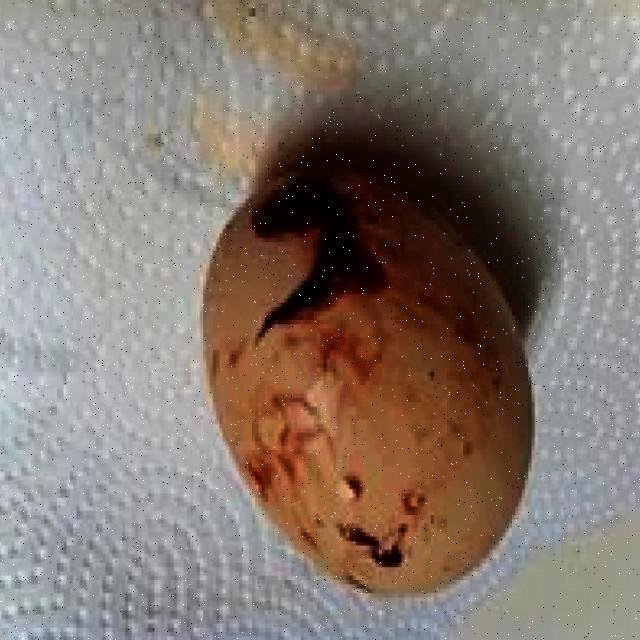Blood Stained Egg: (173, 142, 535, 606)
